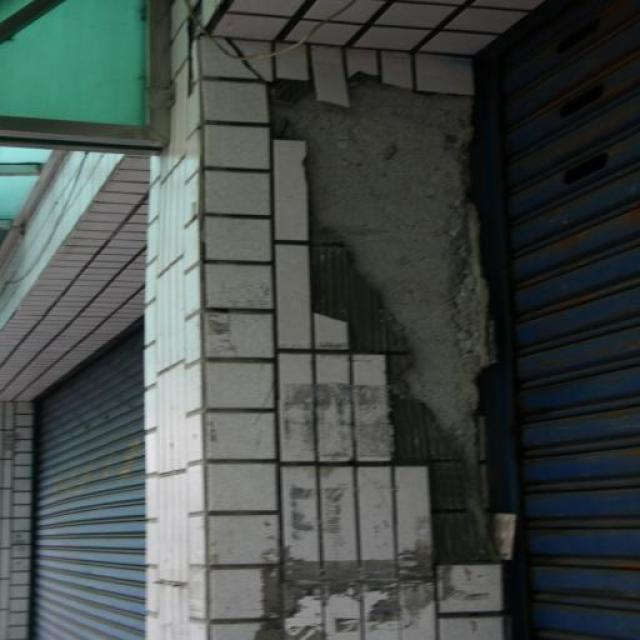D10: (269, 81, 490, 471)
